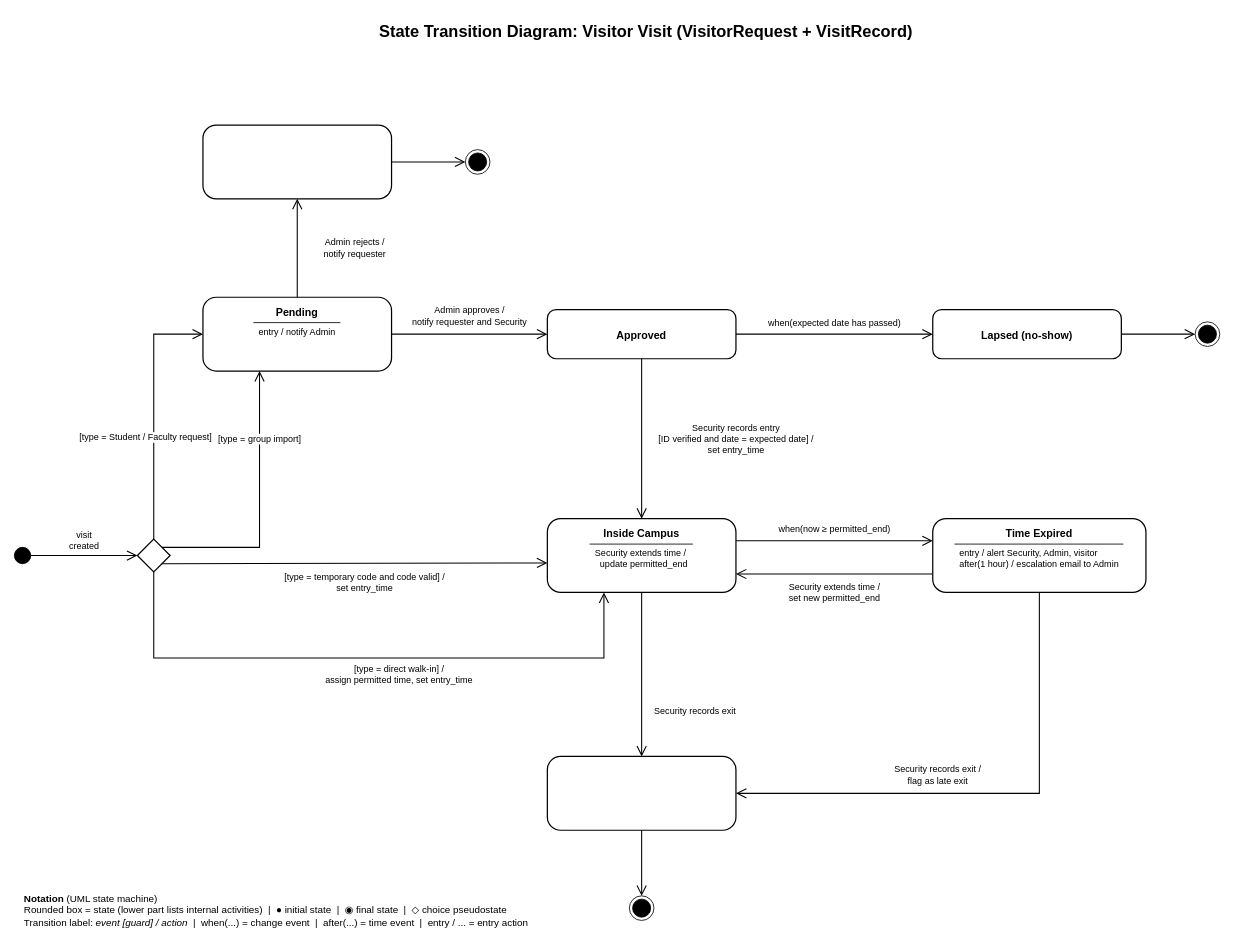
This 1234x950 diagram has some shape labels left out. Each missing label, with the box of its shape:
Exited entry / set exit_time, save to Visitor History: (546, 755, 736, 830)
Rejected entry / store Admin remarks: (202, 124, 392, 199)
